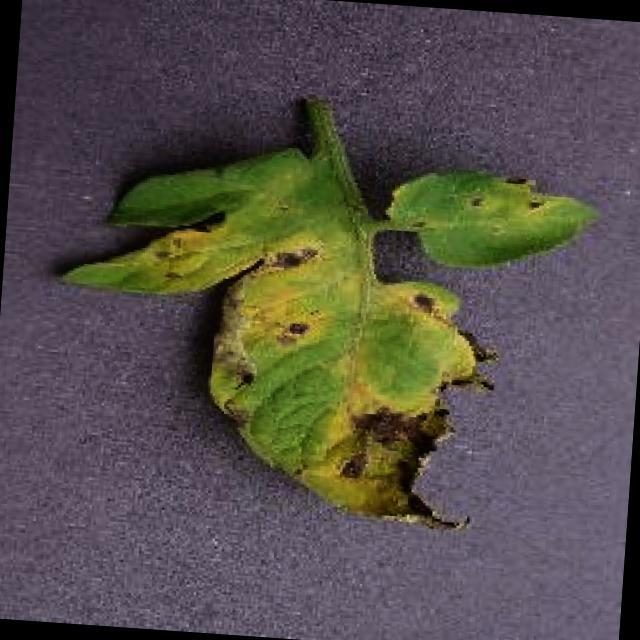Tomato Septoria spot leaf: (32, 130, 606, 544)
